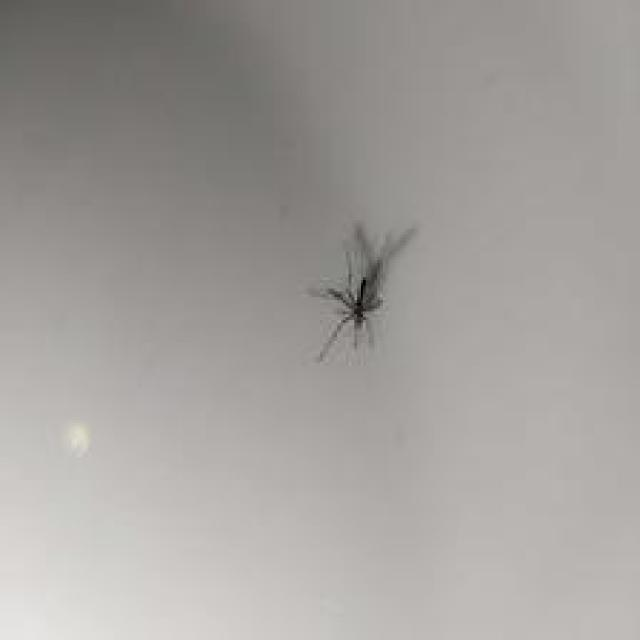Aedes albopictus: (309, 220, 417, 363)
